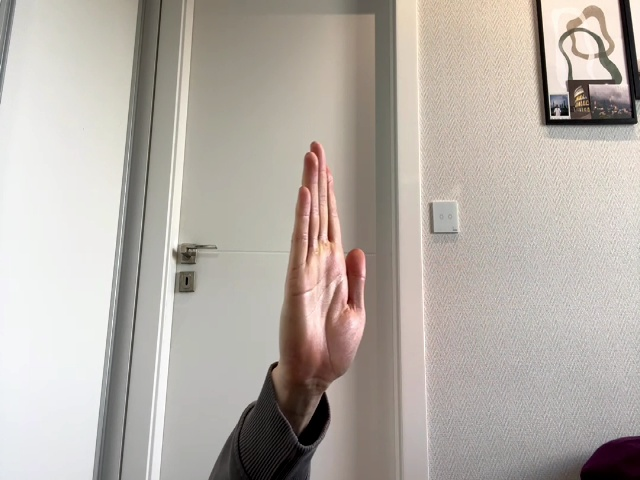SZ: (279, 141, 365, 382)
